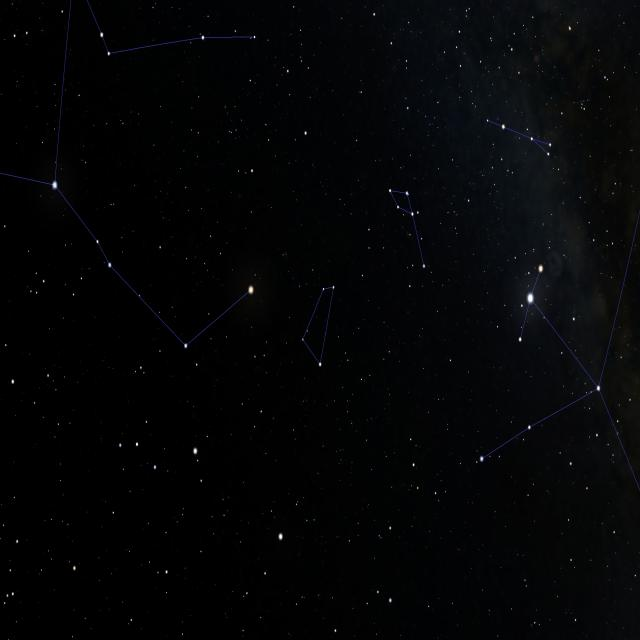Equuleus: (301, 282, 335, 370)
